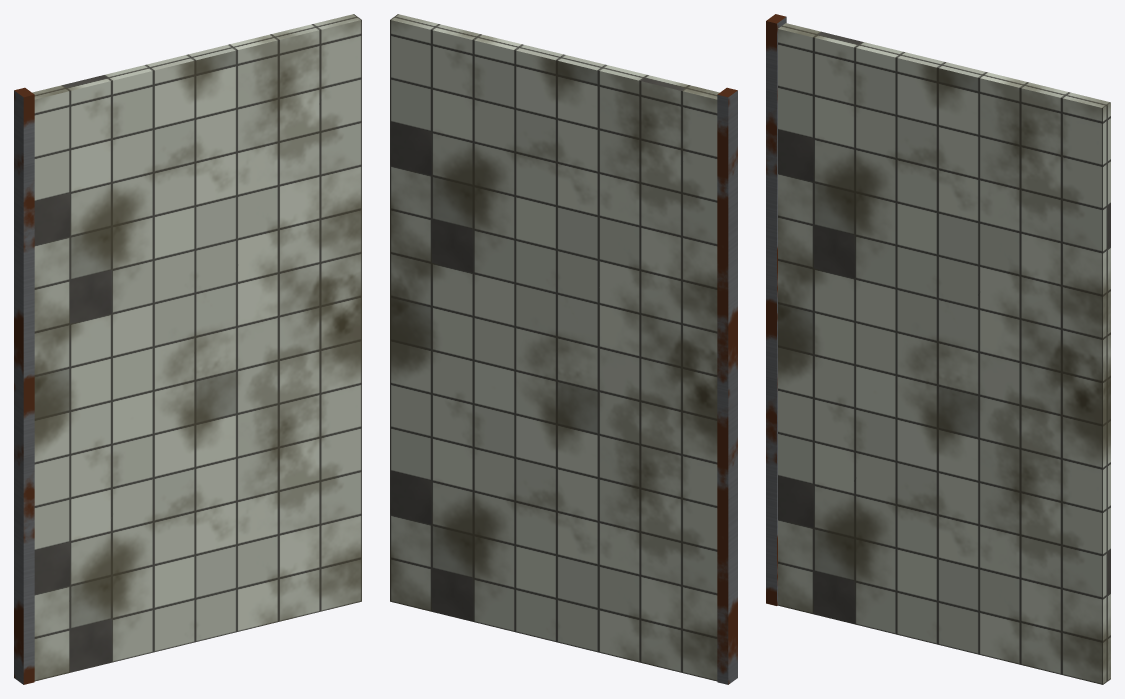
The model's file is SM_ShowerPartition.fbx.
The picture shows the model from 3 angles, left to right: view 1: azimuth 30°, elevation 25°; view 2: azimuth 150°, elevation 25°; view 3: azimuth 330°, elevation 25°; orthographic projection.
Visible parts, largest first — view 1: SM_ShowerPartition; view 2: SM_ShowerPartition; view 3: SM_ShowerPartition.
Boxes of the visible parts, bbox=[...] form: SM_ShowerPartition: bbox=[14, 14, 361, 684]; SM_ShowerPartition: bbox=[390, 14, 737, 684]; SM_ShowerPartition: bbox=[766, 14, 1110, 684].
Size of what is drawn, in the model's own units: 1.22 by 2.02 by 0.06.
2 materials, 2 textured.
